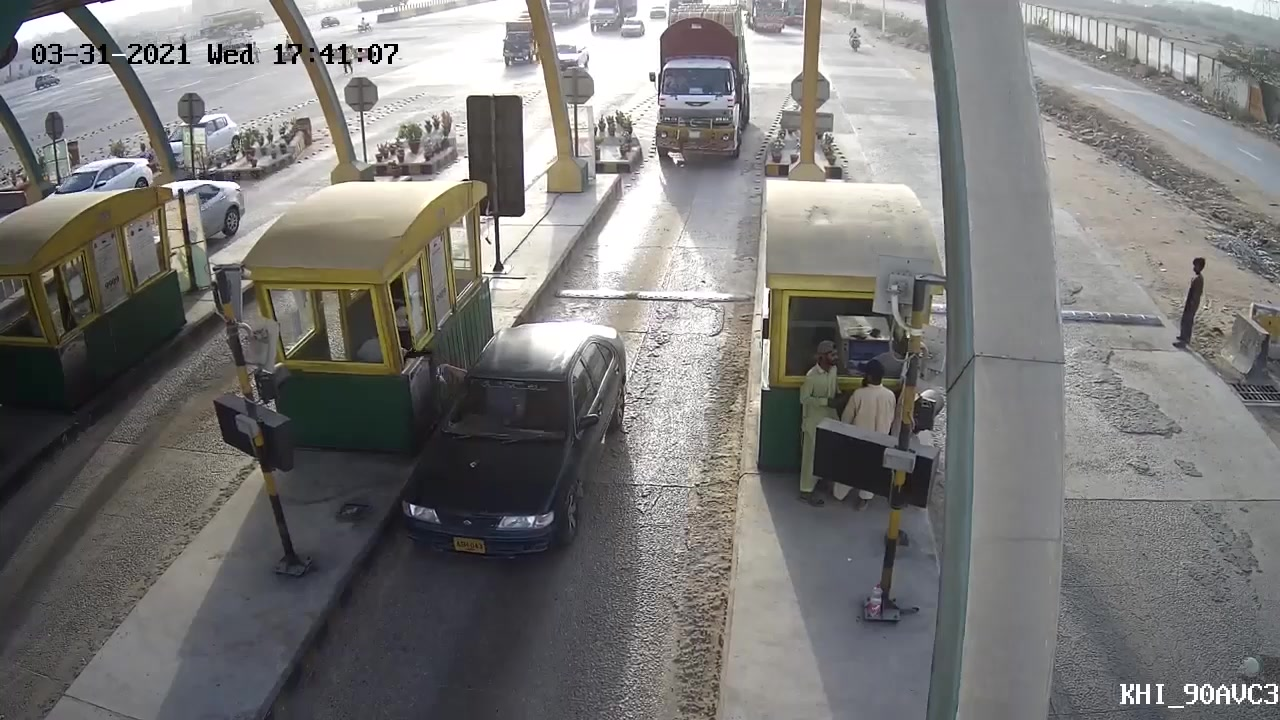F1: (387, 316, 638, 577)
F5: (653, 2, 756, 171)
